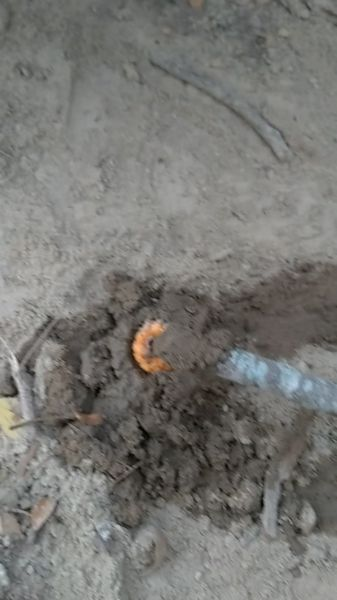eggs: (125, 315, 195, 382)
